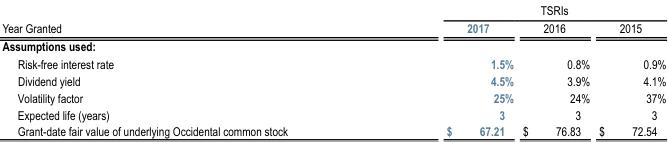table: (1, 0, 665, 139)
table column: (1, 0, 366, 139), (366, 0, 517, 139), (517, 0, 593, 139), (593, 0, 665, 139)
table column header: (1, 0, 665, 36)
table projected row header: (1, 36, 665, 54)
table row: (1, 0, 665, 18), (1, 18, 665, 36), (1, 36, 665, 54), (1, 54, 665, 71), (1, 71, 665, 88), (1, 88, 665, 105), (1, 105, 665, 122), (1, 122, 665, 139)
table spanning cell: (1, 0, 366, 36), (366, 0, 665, 18)
